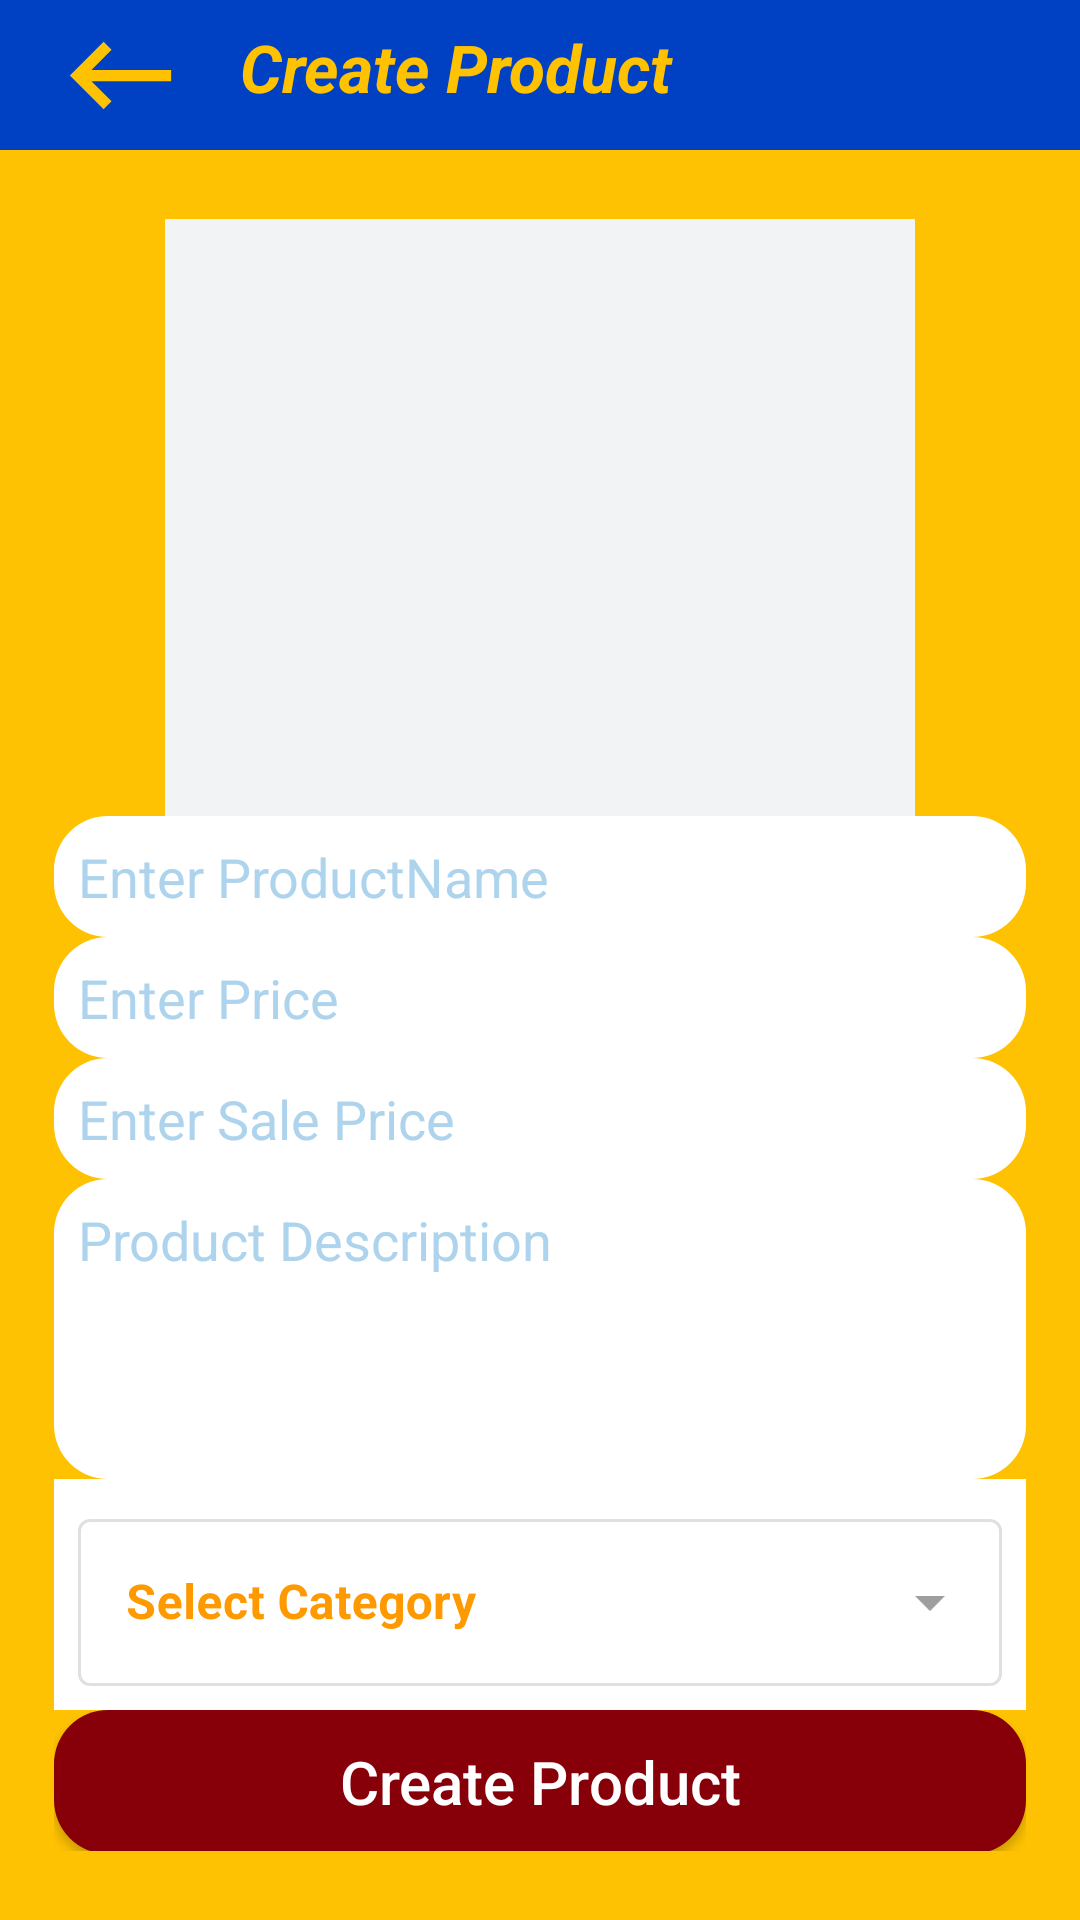

Icons on this 1080 × 1920 Android screen, each with its box as (x1, y1, x2, y2):
keyboard backspace: (70, 42, 172, 109)
